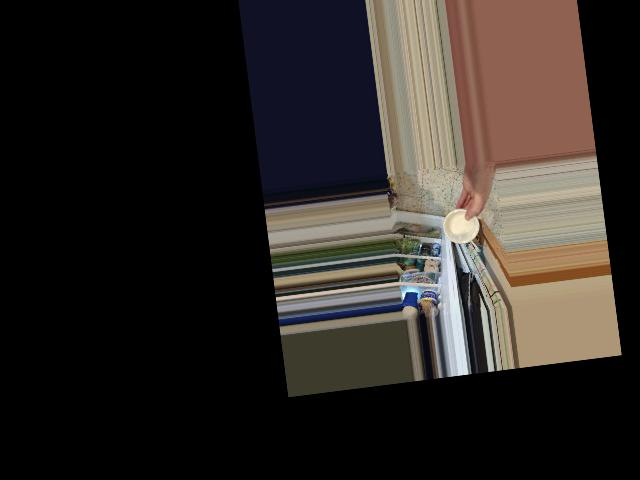cotage: (443, 211, 479, 245)
